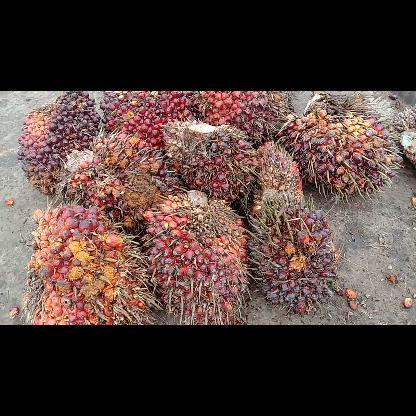TBS masak: (29, 204, 160, 324), (146, 192, 252, 322), (283, 90, 403, 198), (60, 138, 176, 230), (252, 200, 338, 314), (20, 93, 106, 195), (158, 121, 254, 206), (101, 91, 201, 143), (200, 91, 294, 143), (258, 142, 310, 206)
